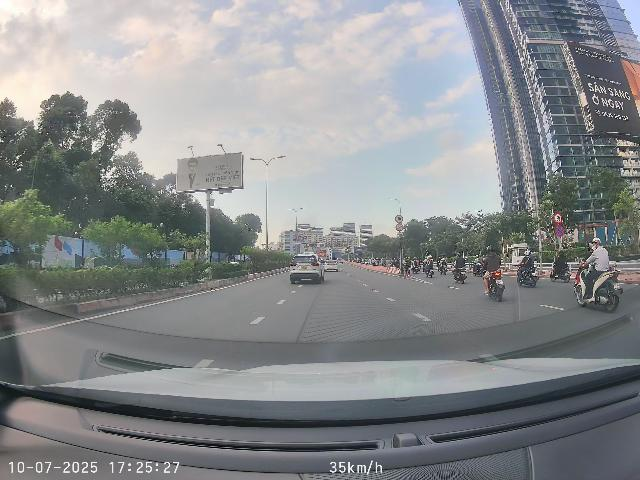127-toc-do-toi-da-60: (554, 213, 563, 224)
127-toc-do-toi-da-70: (395, 215, 403, 223)
130-cam-dung-va-do-xe: (555, 225, 564, 237)
